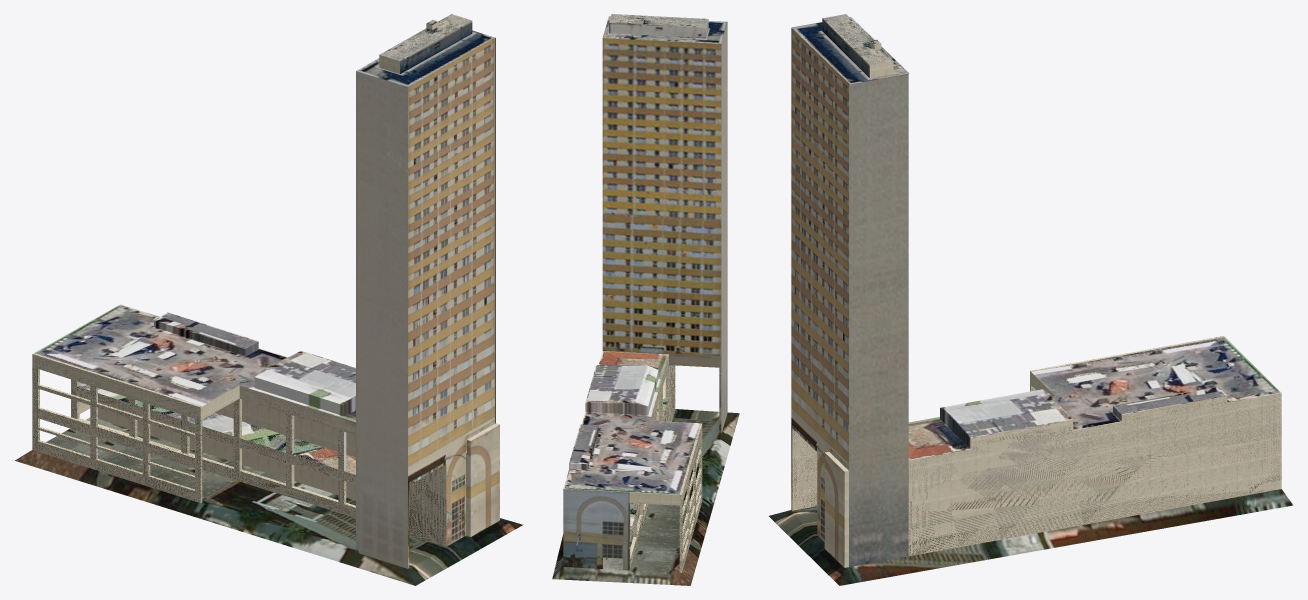
Rendered from Edificio_na_Travessa_da_Lapa.dae.
3 renders of one model, left to right at view 1: azimuth 30°, elevation 25°; view 2: azimuth 150°, elevation 25°; view 3: azimuth 270°, elevation 25°, orthographic. The views are drawn at different scales.
Visible parts, largest first — view 1: SketchUp (×9), image_2, image_0, image_6, image_4; view 2: SketchUp (×9), image_2, image_5, image_6; view 3: SketchUp (×6), image_3, image_0, image_6.
Boxes of the visible parts, left/top/right/bottom form: SketchUp (×9): left=15, top=14, right=522, bottom=585; image_2: left=356, top=71, right=407, bottom=568; image_0: left=470, top=424, right=499, bottom=536; image_6: left=356, top=30, right=494, bottom=87; image_4: left=400, top=21, right=472, bottom=73; SketchUp (×9): left=552, top=14, right=739, bottom=585; image_2: left=721, top=22, right=727, bottom=433; image_5: left=609, top=23, right=705, bottom=38; image_6: left=603, top=16, right=726, bottom=43; SketchUp (×6): left=769, top=14, right=1293, bottom=585; image_3: left=849, top=74, right=908, bottom=566; image_0: left=824, top=453, right=844, bottom=567; image_6: left=792, top=17, right=909, bottom=84.
Bounding box in the file's own units: 1965 × 2843 × 3063.
16 materials, 15 textured.
